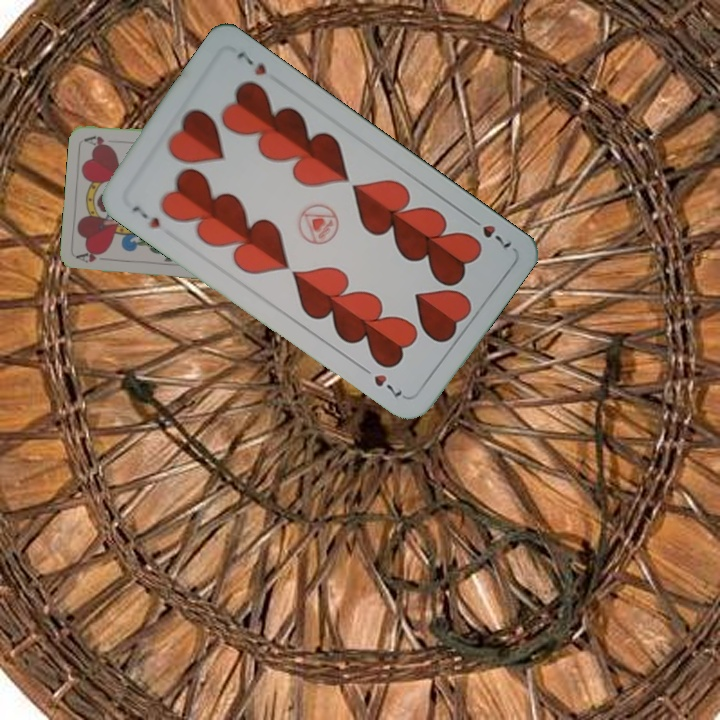H7: (464, 211, 514, 251), (127, 201, 163, 231)
HA: (74, 246, 109, 265)
